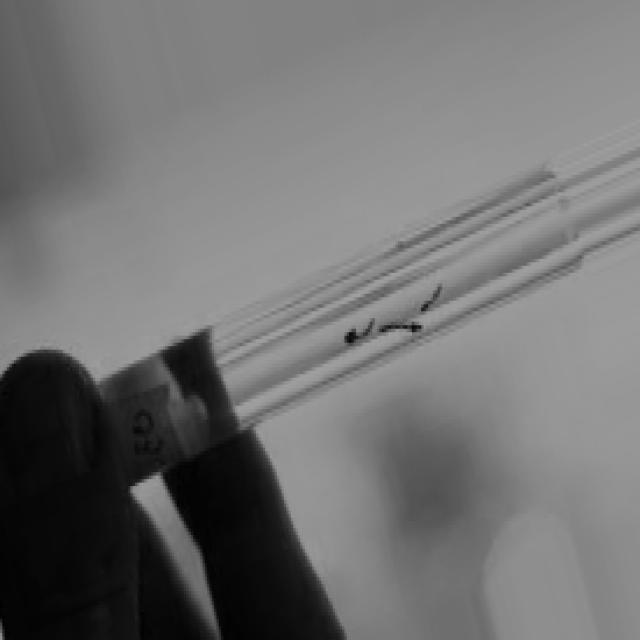larvas: (344, 315, 374, 344), (421, 285, 442, 310), (380, 324, 421, 334)
